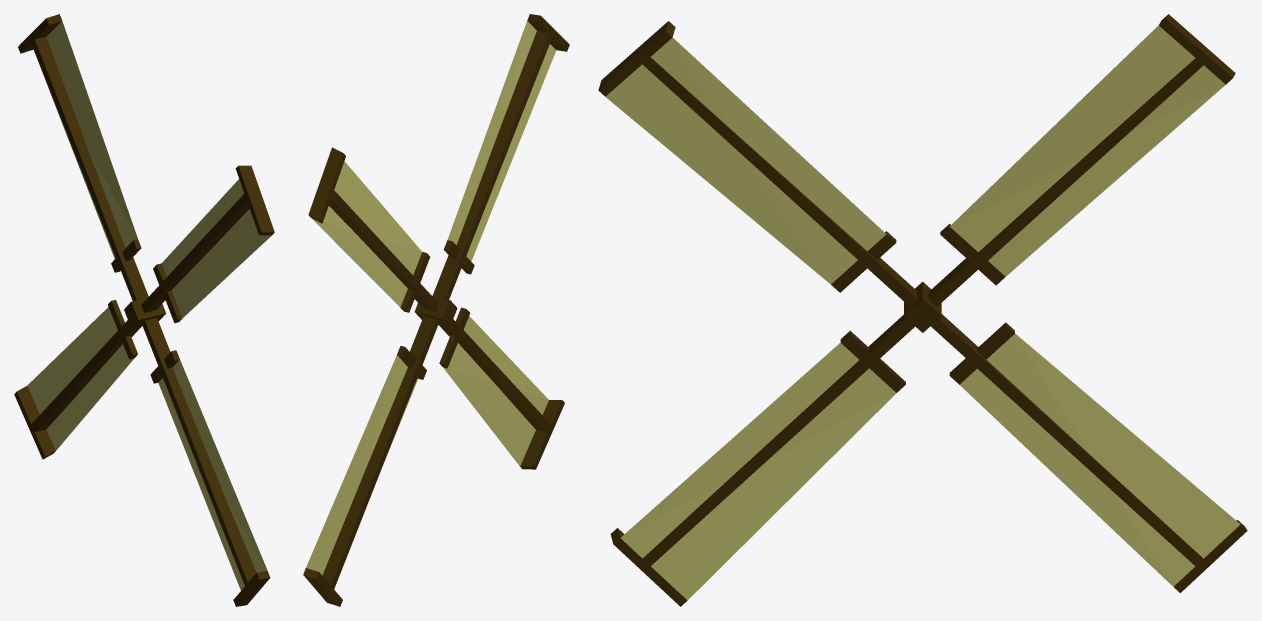
Rendered from sails0010.obj.
The picture shows the model from 3 angles, left to right: view 1: azimuth 30°, elevation 25°; view 2: azimuth 150°, elevation 25°; view 3: azimuth 270°, elevation 25°; orthographic projection. The views are drawn at different scales.
Parts seen in each view (by area): view 1: Sails_Mesh; view 2: Sails_Mesh; view 3: Sails_Mesh.
Boxes of the visible parts, x1=… form: Sails_Mesh: x1=14, y1=14, x2=274, y2=606; Sails_Mesh: x1=303, y1=14, x2=569, y2=606; Sails_Mesh: x1=598, y1=14, x2=1247, y2=606.
Bounding box in the file's own units: 0.5135 × 8 × 8.01.
